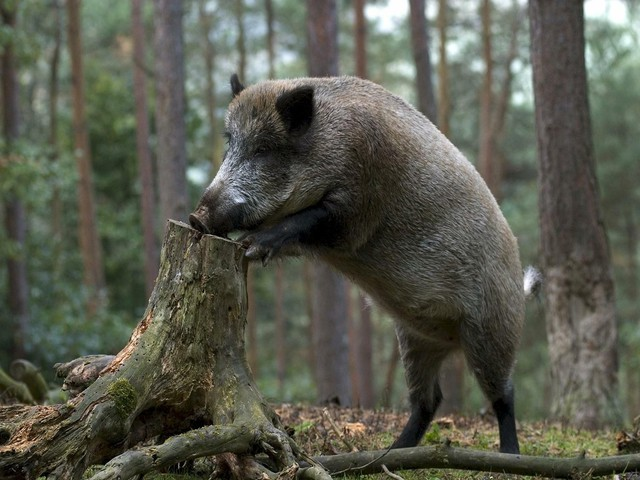Pig: (189, 72, 559, 450)
